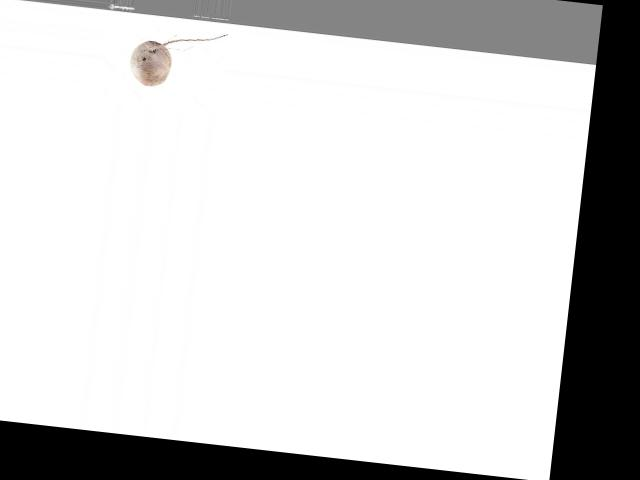beet: (128, 23, 228, 93)
